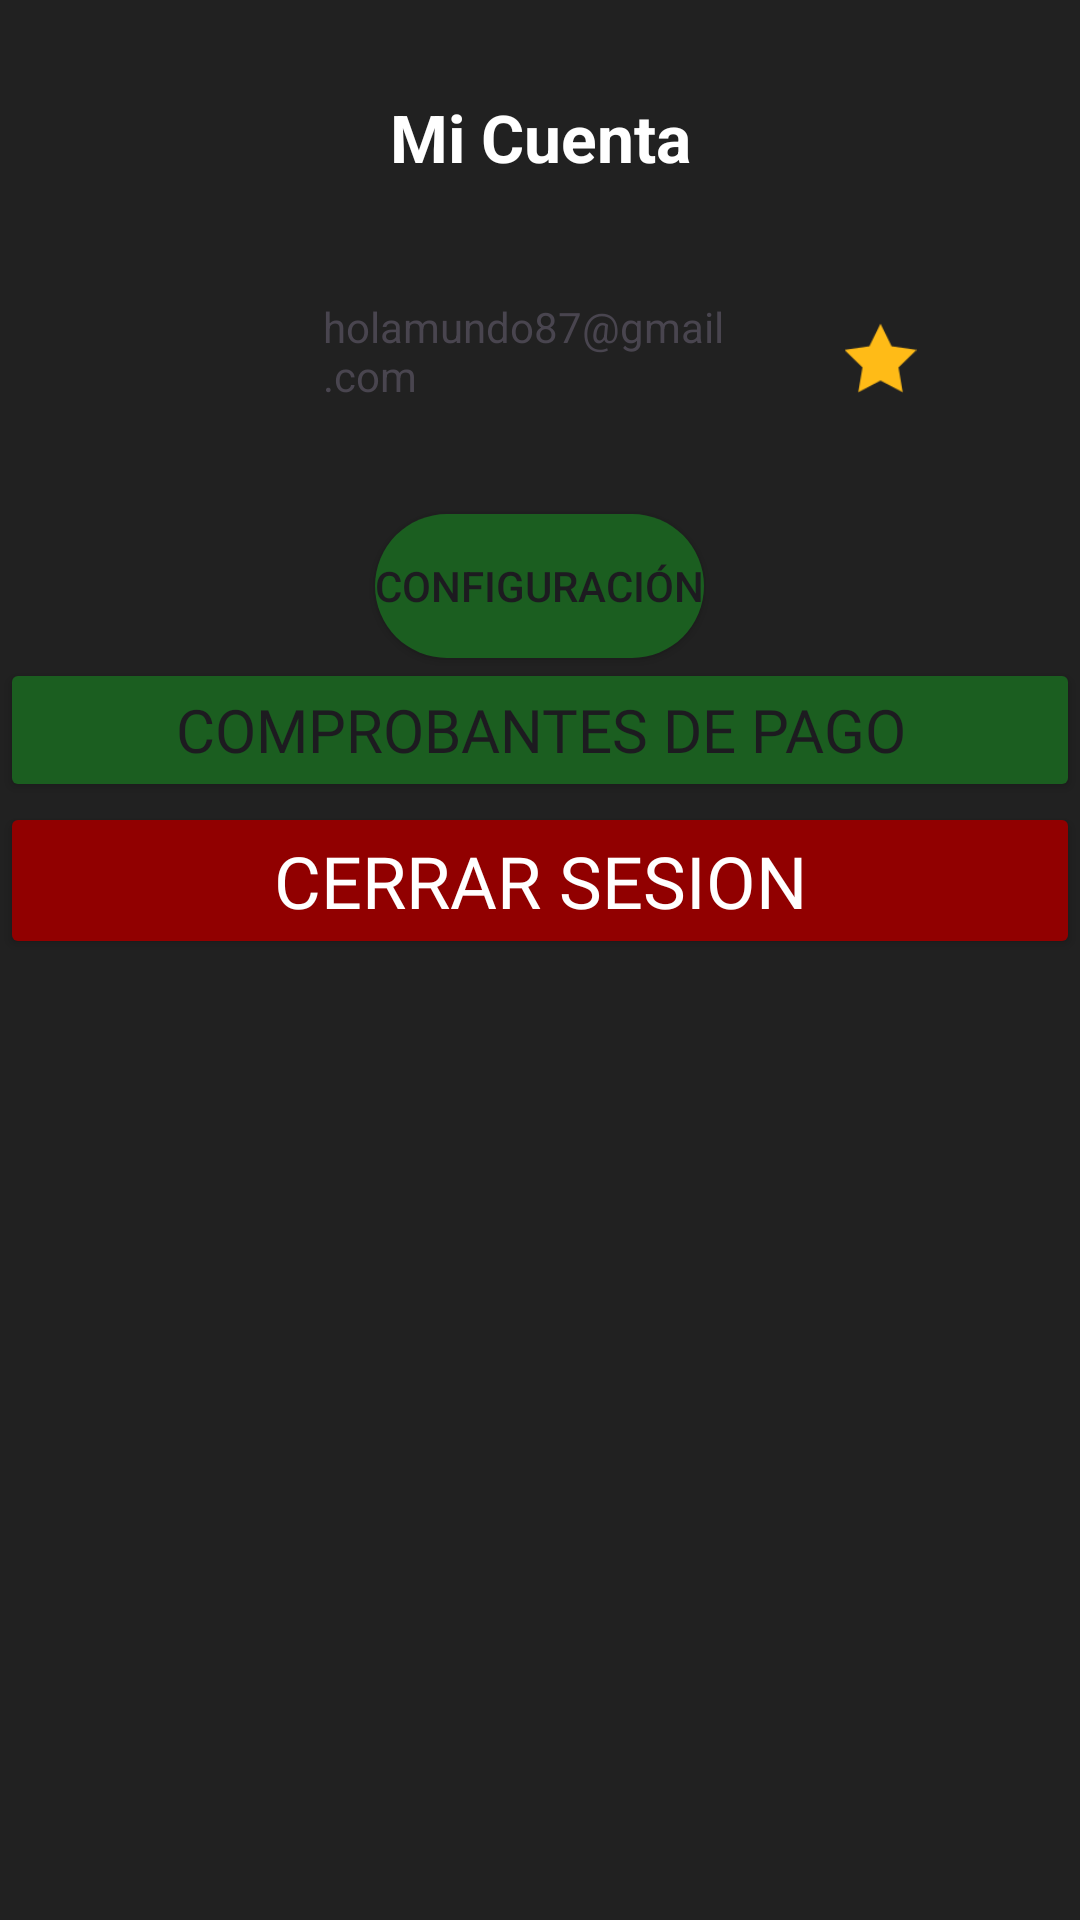

Icon click points for this 1080px×1920px phone screenshot, format (x,y):
Favoritos: (881,358)
